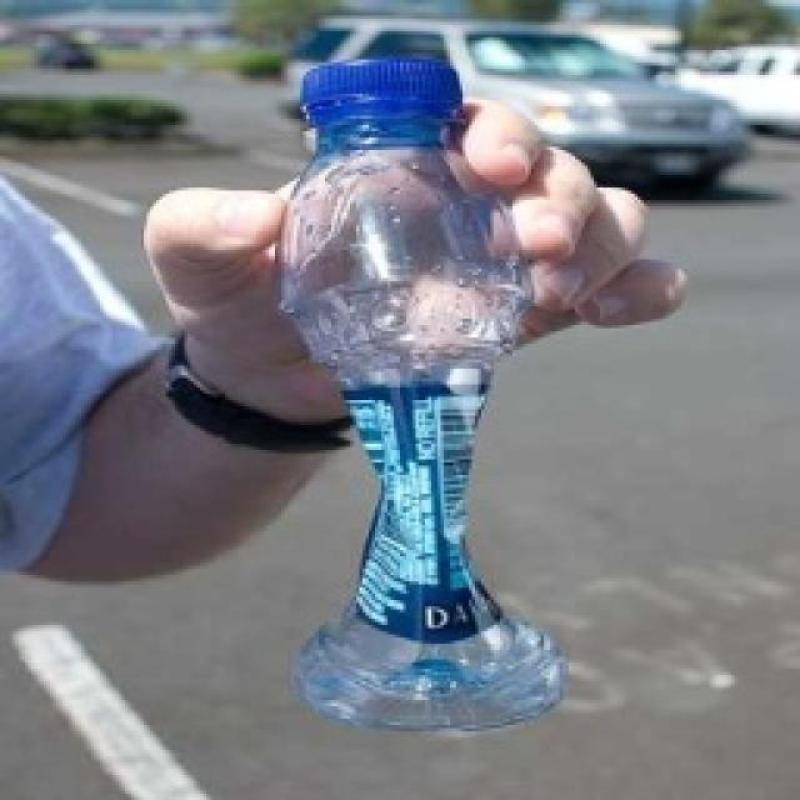botella: (280, 59, 568, 731)
